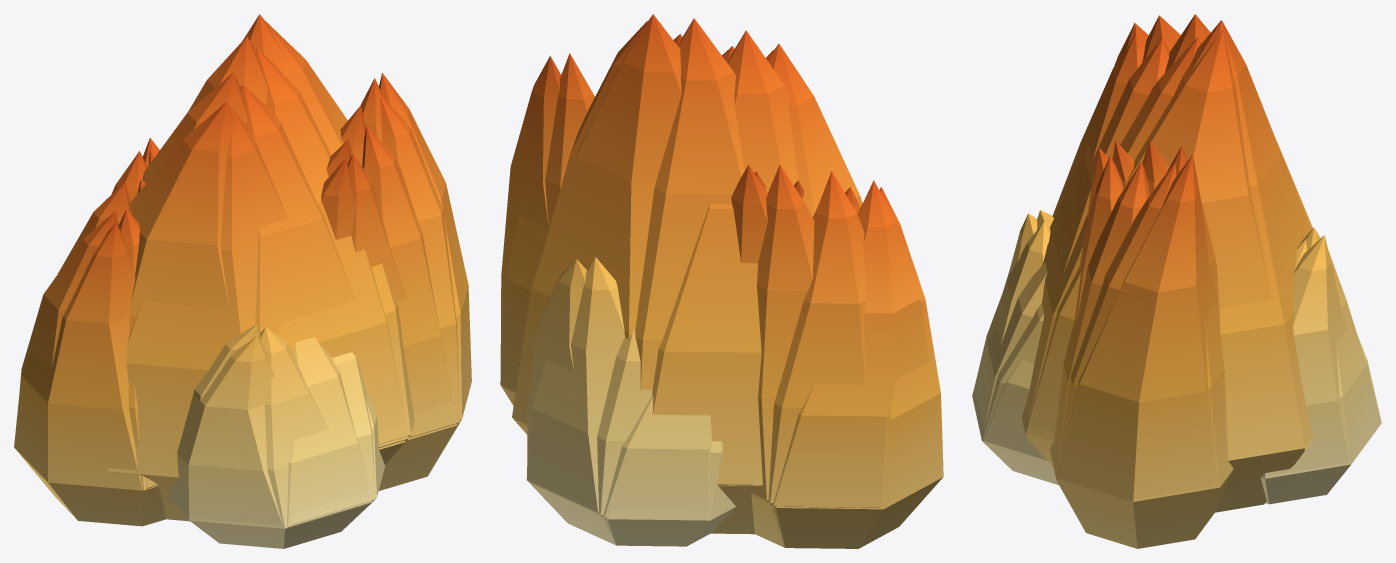
Rendered from wall_torch_flame.glb.
3 views of the same model, side by side, from view 1: azimuth 30°, elevation 25°; view 2: azimuth 150°, elevation 25°; view 3: azimuth 270°, elevation 25° (orthographic). The views are drawn at different scales.
Visible parts, largest first — view 1: flame_03, flame_06, flame_05, flame_04, flame_02, flame_07, flame_00, flame_01; view 2: flame_02, flame_03, flame_04, flame_01, flame_05, flame_00, flame_06, flame_07; view 3: flame_04, flame_02, flame_01, flame_05, flame_06, flame_00, flame_07, flame_03.
Part boxes in pixels (x1,y1,x2,y2): flame_03: (14, 36, 460, 526); flame_06: (107, 105, 372, 527); flame_05: (130, 78, 383, 548); flame_04: (118, 72, 471, 537); flame_02: (19, 14, 456, 490); flame_07: (142, 85, 405, 527); flame_00: (111, 49, 408, 498); flame_01: (58, 22, 414, 444); flame_02: (512, 14, 929, 544); flame_03: (513, 18, 943, 548); flame_04: (500, 30, 860, 433); flame_01: (542, 21, 866, 547); flame_05: (500, 43, 862, 485); flame_00: (601, 34, 814, 543); flame_06: (503, 50, 773, 534); flame_07: (529, 46, 767, 545); flame_04: (1003, 15, 1311, 548); flame_02: (1027, 20, 1313, 521); flame_01: (1022, 29, 1271, 465); flame_05: (975, 23, 1349, 530); flame_06: (972, 32, 1381, 537); flame_00: (983, 37, 1201, 485); flame_07: (972, 38, 1381, 485); flame_03: (1037, 14, 1313, 530).
Bounding box in the file's own units: 0.421 × 0.432 × 0.3484.
